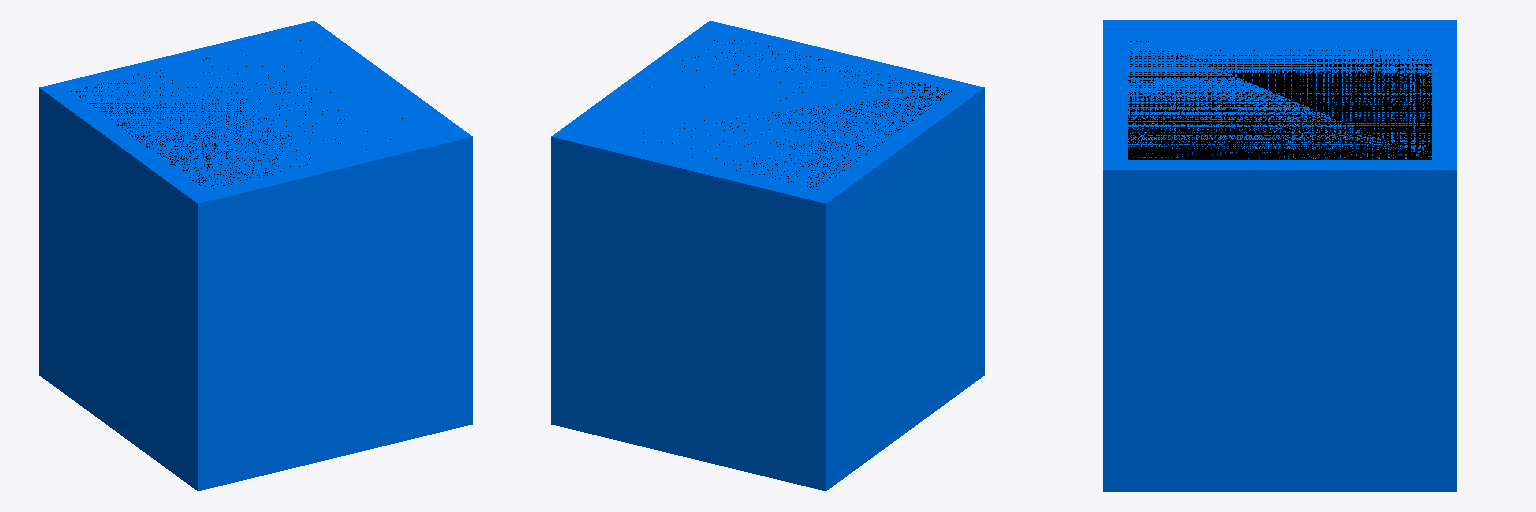
URDF robot description (hollow_cube):
<?xml version="1.0"?>
<robot name="hollow_cube">

  <!-- 材料定义 -->
  <material name="blue">
    <color rgba="0 0.5 1 1"/>  <!-- 半透明蓝色材质 -->
  </material>
  <material name="void">
    <color rgba="0 0 0 0"/>    <!-- 全透明材质 -->
  </material>

  <!-- 主链接 -->
  <link name="base_link">
    <!-- 大立方体本体（边长280mm） -->
    <visual>
      <origin xyz="0 0 0" rpy="0 0 0"/>
      <geometry>
        <box size="0.28 0.28 0.28"/>  <!-- 单位：米 -->
      </geometry>
      <material name="blue"/>
    </visual>
  
    <!-- 挖空区域（边长240mm） -->
    <visual>
      <origin xyz="0 0 0.02" rpy="0 0 0"/>  <!-- Z轴偏移2cm -->
      <geometry>
        <box size="0.24 0.24 0.24"/>
      </geometry>
      <material name="void"/>  <!-- 透明材质覆盖原表面 -->
    </visual>
  </link>

</robot>

--- Facts derived from the render (not from the file) ---
3 views of the same robot in one strip: view 1: azimuth 30°, elevation 25°; view 2: azimuth 150°, elevation 25°; view 3: azimuth 270°, elevation 25° (orthographic).
Model hollow_cube with 1 links and 0 joints (none), rooted at base_link, posed every joint at zero.
Visible links, largest first — view 1: base_link; view 2: base_link; view 3: base_link.
Link boxes in pixels (x1,y1,x2,y2): base_link: (39,21,472,490); base_link: (551,21,984,490); base_link: (1103,20,1456,491).
Size in the robot's own frame: 0.28 by 0.28 by 0.28 metres.
Geometry: primitives only (box / cylinder / sphere), no mesh files.
